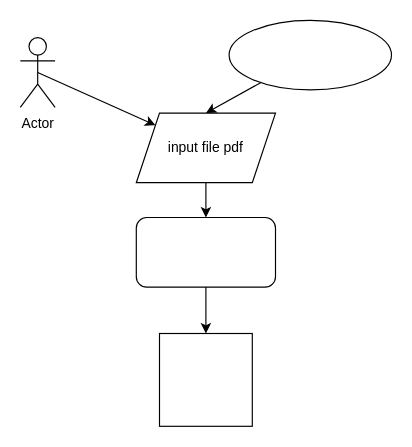
Image size: 412x447. Some labels were removed from this diagram. The shapes that lost their labels are listed below. From the top down, each one's centre as x and y in pixels, then its label:
the point at 310,54: startnya
the point at 205,251: read pdf files
